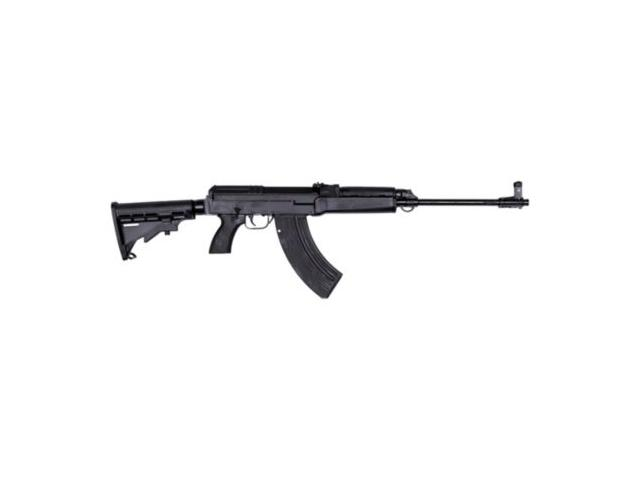rifle: (100, 179, 533, 309)
